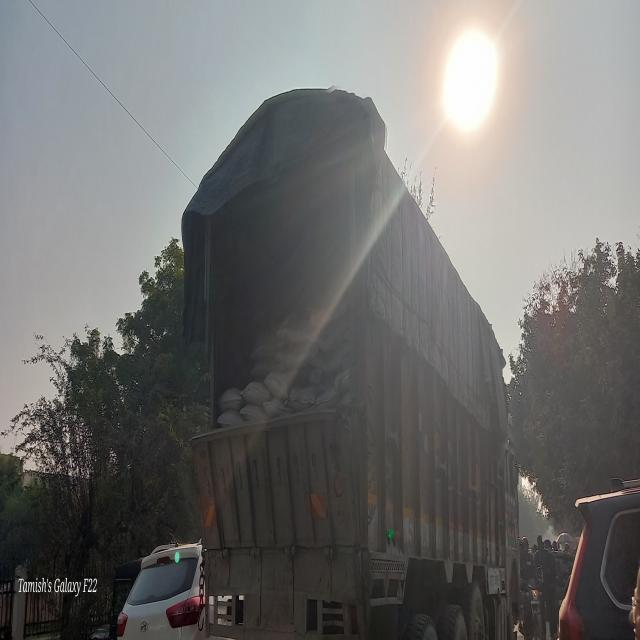covered: (191, 89, 525, 608)
